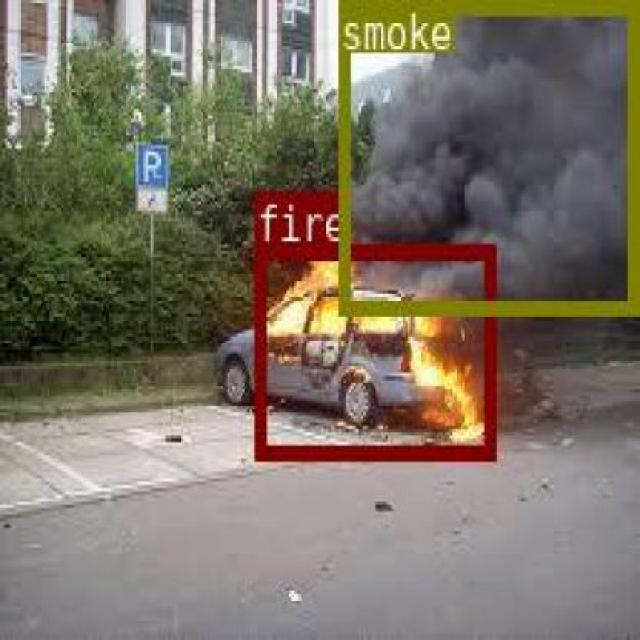fire: (252, 242, 492, 456)
smoke: (338, 0, 636, 311)
